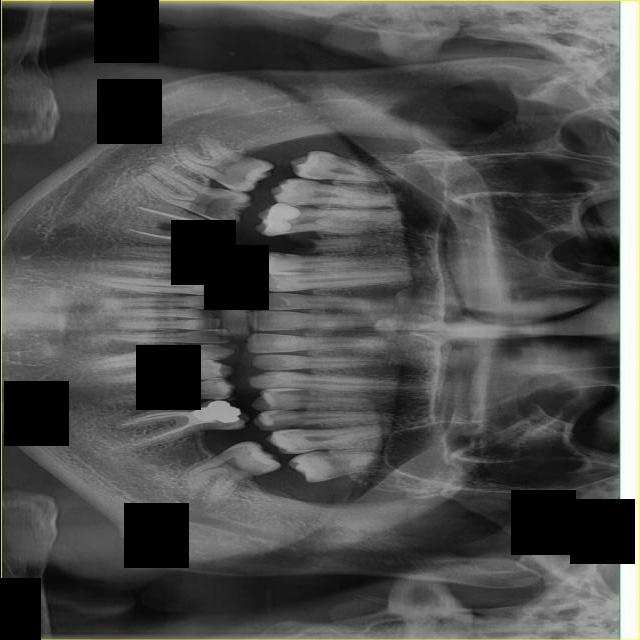72: (137, 199, 206, 234), (119, 223, 200, 247), (305, 233, 380, 255)
74: (120, 399, 215, 447), (137, 204, 201, 226), (126, 229, 196, 243)
NucleOSS Implant: (189, 398, 241, 424)
Sterngold Implant: (187, 192, 245, 223), (263, 416, 307, 430), (228, 174, 249, 187), (273, 250, 291, 261), (179, 231, 200, 237), (240, 450, 251, 458)
Straumann Implant: (263, 204, 299, 233)
